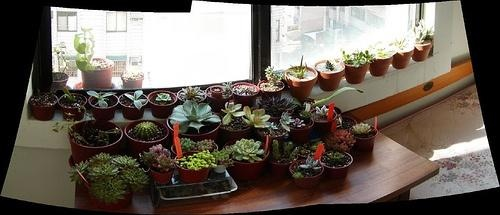pottedplant: (70, 153, 149, 213), (75, 28, 115, 93), (169, 98, 222, 141), (70, 119, 125, 160), (227, 139, 266, 184), (288, 58, 320, 104), (176, 152, 214, 188), (145, 147, 176, 188), (342, 50, 376, 87), (224, 103, 258, 140), (127, 120, 171, 148), (315, 59, 347, 95), (323, 150, 354, 186), (412, 19, 434, 65), (89, 92, 121, 123), (292, 158, 323, 190), (368, 43, 394, 81), (269, 140, 295, 178), (259, 69, 287, 103), (120, 91, 150, 122), (31, 91, 60, 122), (150, 91, 178, 122), (391, 37, 415, 72), (310, 108, 340, 135), (61, 92, 87, 123), (263, 97, 298, 120), (287, 116, 316, 143), (327, 129, 355, 156), (232, 83, 261, 108), (351, 126, 376, 155), (206, 85, 233, 109), (178, 87, 208, 107), (211, 151, 229, 176), (122, 73, 146, 91), (173, 138, 195, 155), (335, 115, 358, 129), (196, 140, 218, 153)
